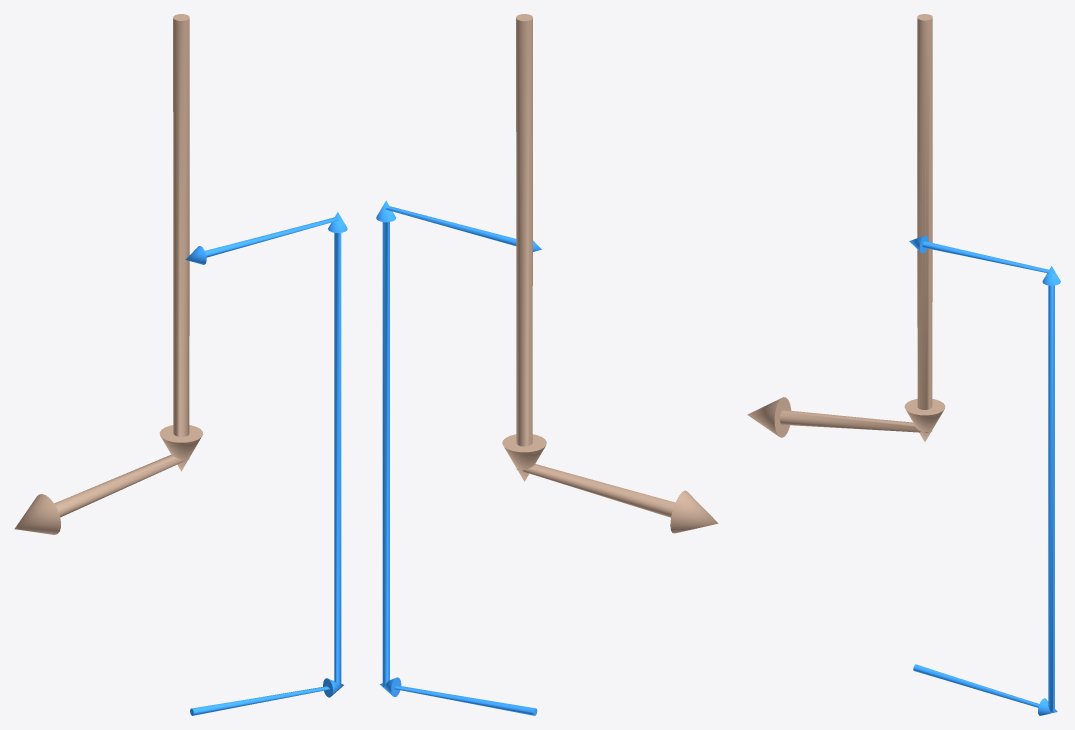
Rendered from quench_tower_flow.glb.
3 views of the same model, side by side, from view 1: azimuth 30°, elevation 25°; view 2: azimuth 150°, elevation 25°; view 3: azimuth 330°, elevation 25° (orthographic). The views are drawn at different scales.
Visible parts, largest first — view 1: hot_gas, quench_liquid; view 2: hot_gas, quench_liquid; view 3: hot_gas, quench_liquid.
Boxes of the visible parts, box(x1,y1,x2,y2) form: hot_gas: box(14, 14, 203, 534); quench_liquid: box(185, 212, 347, 715); hot_gas: box(502, 14, 718, 533); quench_liquid: box(376, 200, 541, 715); hot_gas: box(747, 14, 945, 441); quench_liquid: box(909, 235, 1060, 715).
Bounding box in the file's own units: 1.83 × 3.69 × 0.2942.
